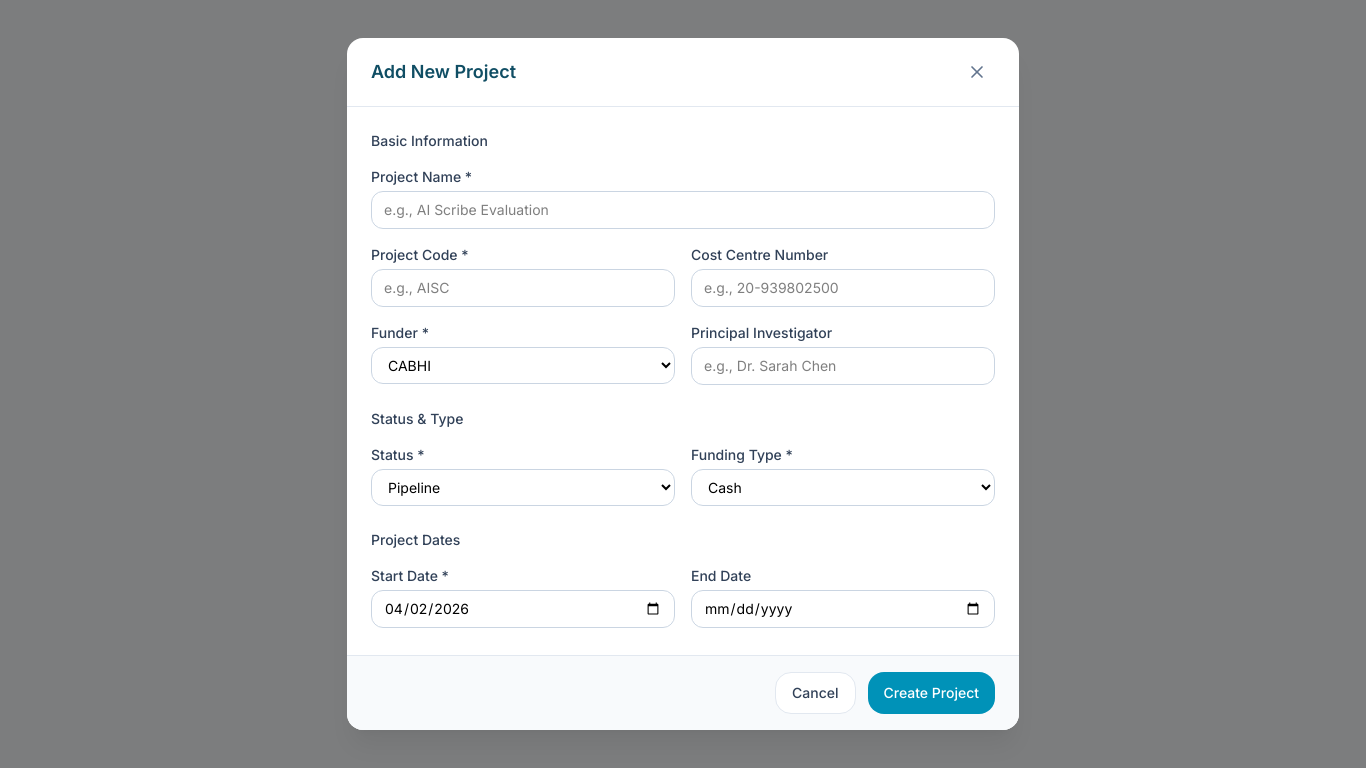
Test: ProjectFormModal › shows validation errors when required fields are empty
Note: Clear the default start date and funder
Clear the field with placeholder "e.g., AI Scribe Evaluation": {"x": 683, "y": 210} left=371, top=191, right=995, bottom=229
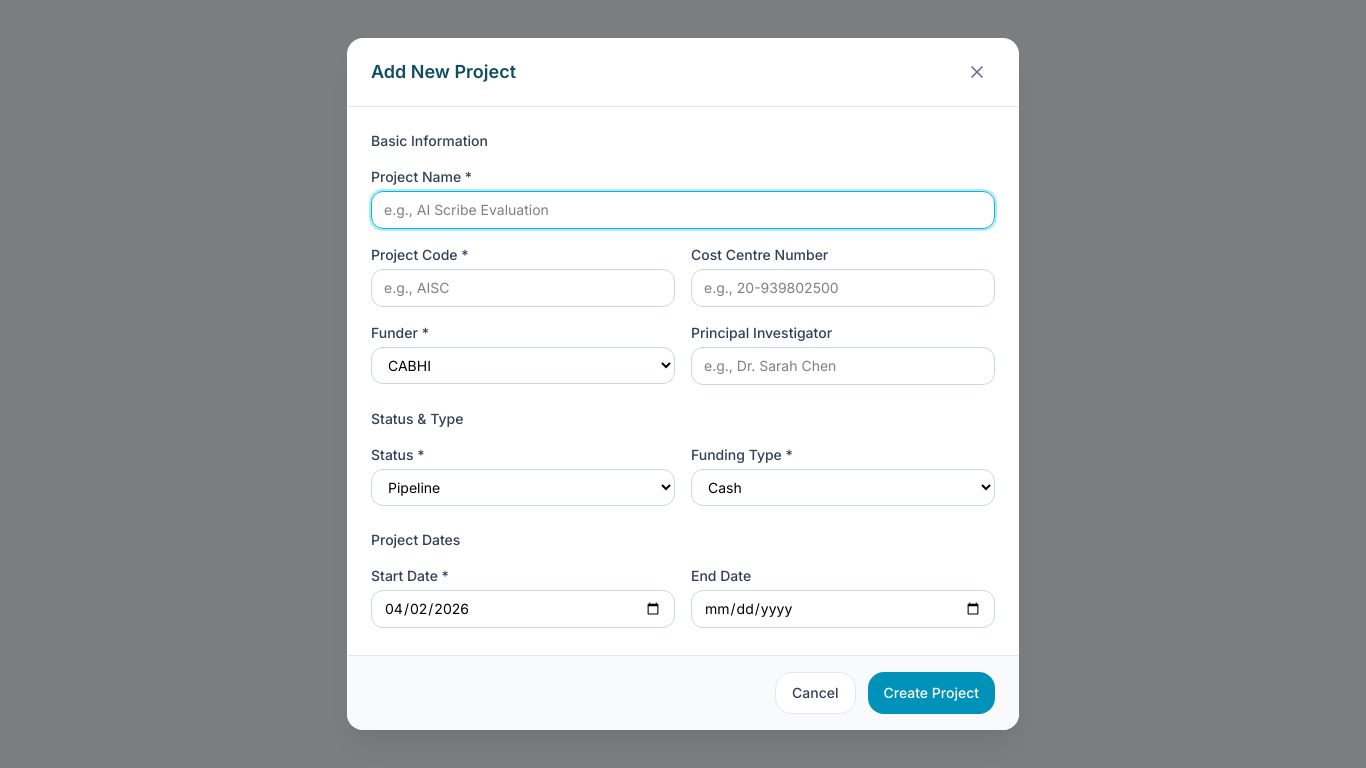
Click the button "Create Project": {"x": 931, "y": 693} left=868, top=672, right=995, bottom=714
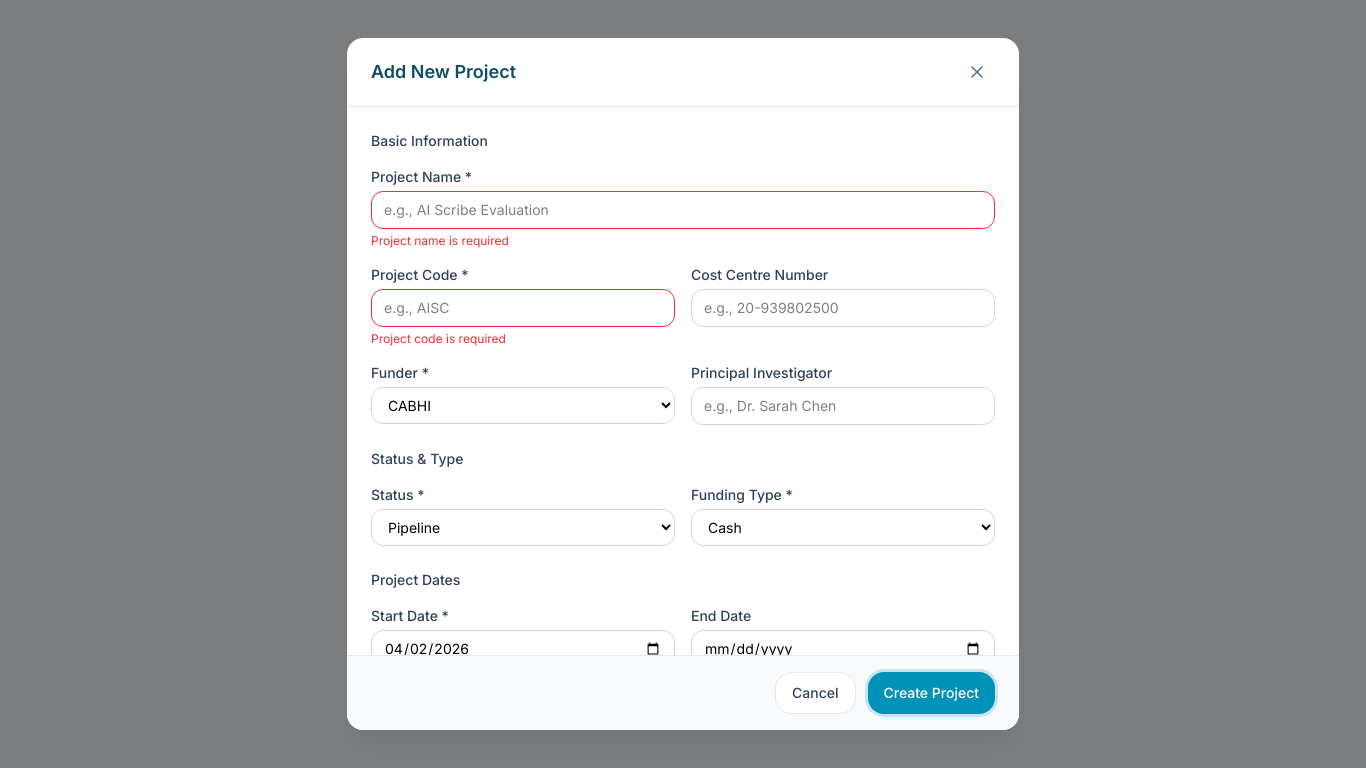
Expected: the text "Project name is required" is shown, left=371, top=233, right=509, bottom=248
Expected: the text "Project code is required" is shown, left=371, top=331, right=506, bottom=346
